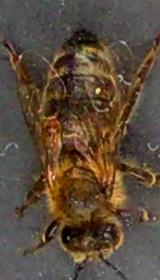varroa_mite: (36, 112, 66, 140)
